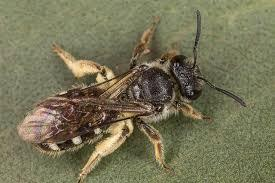Lasioglossum: (20, 15, 234, 179)
